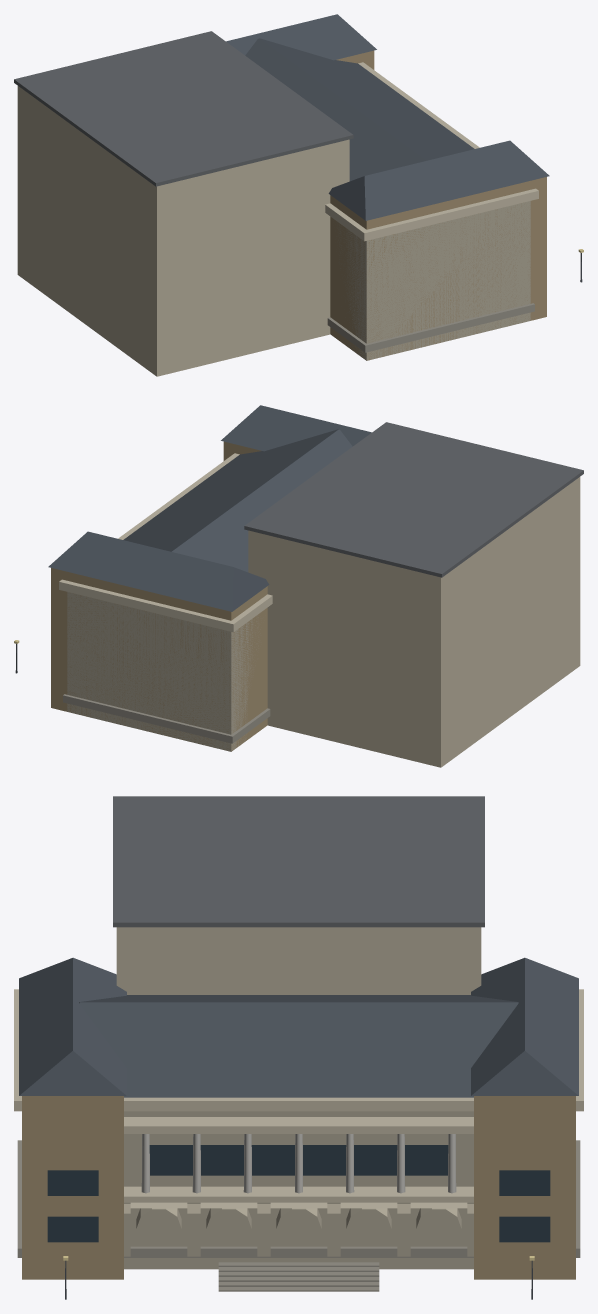
File: mobile.glb
The picture shows the model from 3 angles, top to bottom: view 1: azimuth 30°, elevation 25°; view 2: azimuth 150°, elevation 25°; view 3: azimuth 270°, elevation 25°; orthographic projection. The views are drawn at different scales.
Parts seen in each view (by area): view 1: lm.opera-house; view 2: lm.opera-house; view 3: lm.opera-house.
Part boxes in pixels (x1,y1,x2,y2): lm.opera-house: (14, 14, 583, 376); lm.opera-house: (14, 405, 583, 767); lm.opera-house: (14, 796, 583, 1299).
Size of the model in its own units: 84.85 by 38.7 by 78.2.
